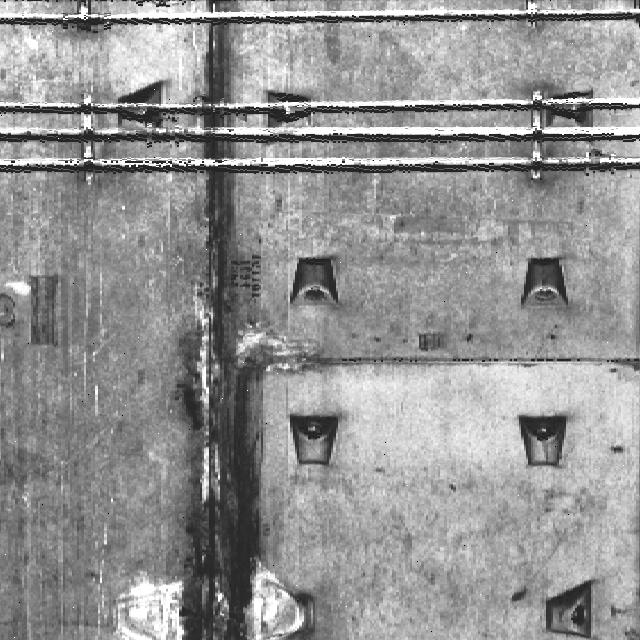leakage: (168, 6, 271, 640)
